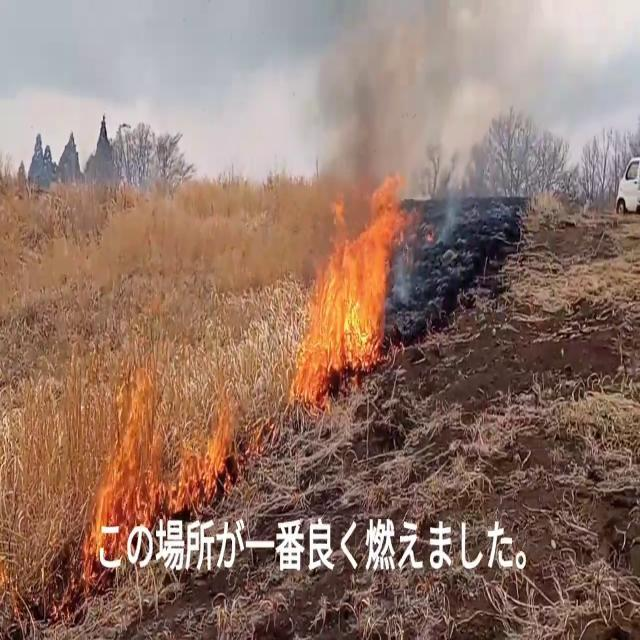Fire: (80, 342, 240, 575), (288, 172, 412, 400)
Smoke: (304, 0, 590, 225)
